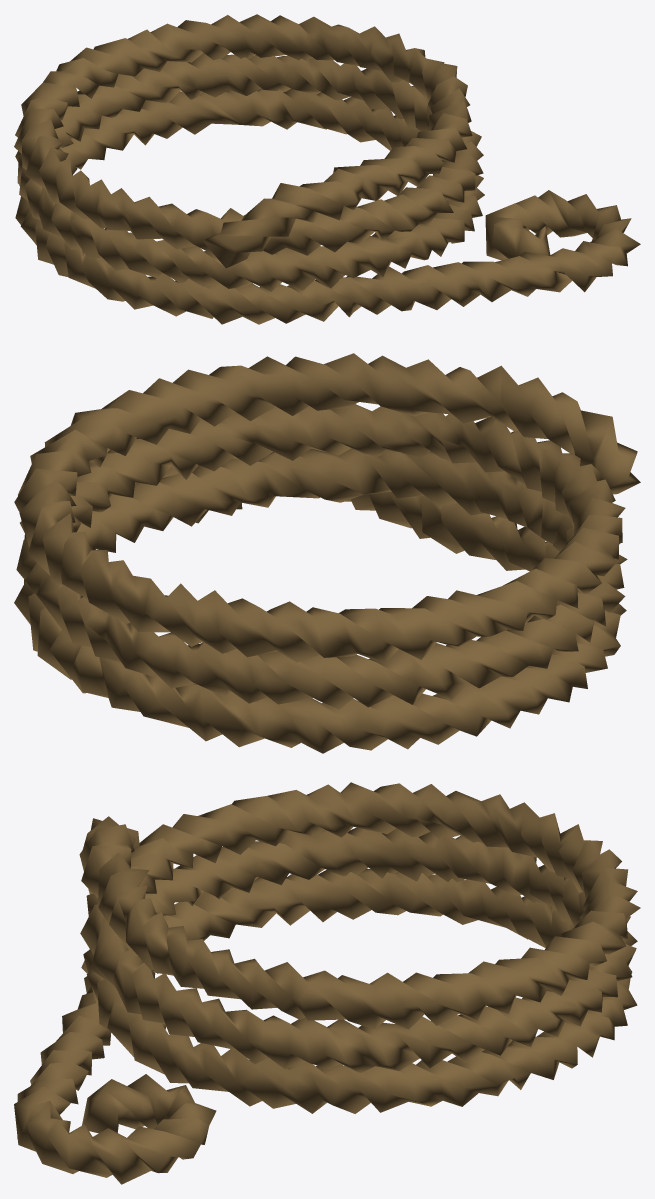
Rendered from ropecoil.fbx.
3 renders of one model, top to bottom at view 1: azimuth 30°, elevation 25°; view 2: azimuth 150°, elevation 25°; view 3: azimuth 270°, elevation 25°, orthographic. The views are drawn at different scales.
Visible parts, largest first — view 1: ropecoil; view 2: ropecoil; view 3: ropecoil.
Boxes of the visible parts, x1,y1,x2,y2 form: ropecoil: (14, 14, 640, 324); ropecoil: (14, 353, 640, 753); ropecoil: (14, 782, 640, 1184).
Size of the model in its own units: 0.6929 by 0.2064 by 0.6687.
